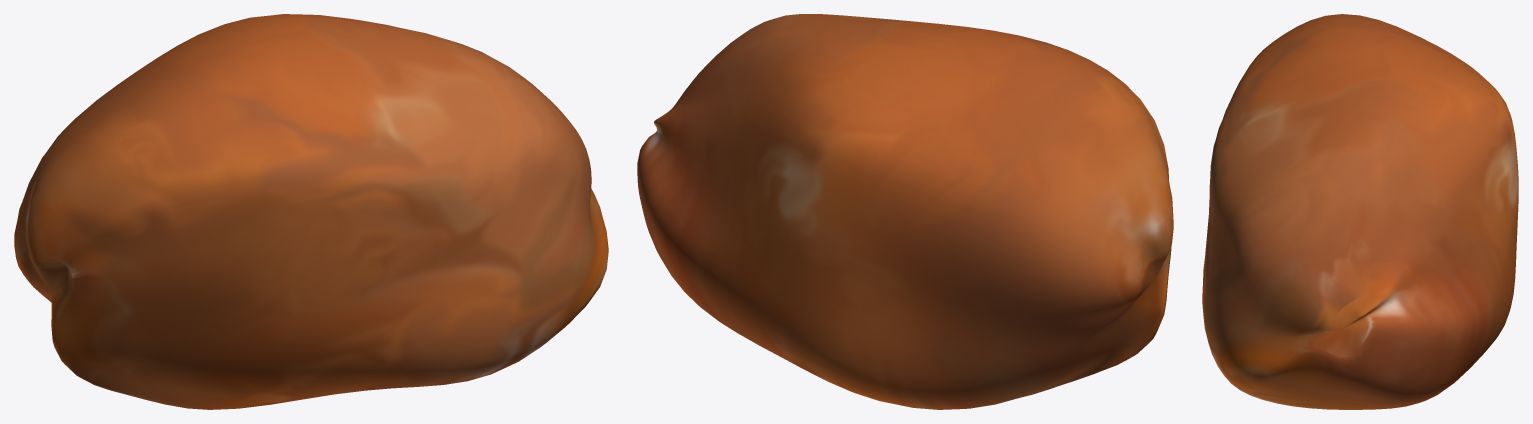
File: model_meat.fbx
The picture shows the model from 3 angles, left to right: view 1: azimuth 30°, elevation 25°; view 2: azimuth 150°, elevation 25°; view 3: azimuth 270°, elevation 25°; orthographic projection. The views are drawn at different scales.
Visible parts, largest first — view 1: Cylinder; view 2: Cylinder; view 3: Cylinder.
Boxes of the visible parts, left/top/right/bottom form: Cylinder: left=14, top=14, right=608, bottom=409; Cylinder: left=637, top=14, right=1173, bottom=409; Cylinder: left=1202, top=14, right=1518, bottom=409.
Size of the model in its own units: 2.15 by 1.35 by 1.27.
1 material, 1 textured.
